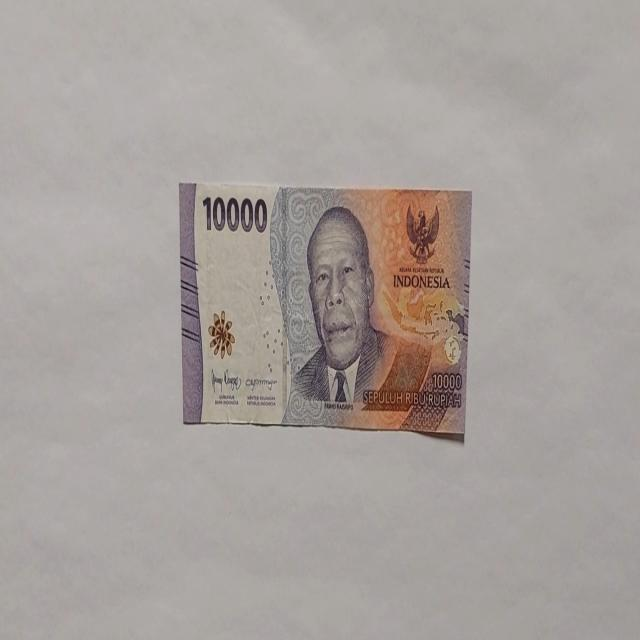sepuluh ribu rupiah: (178, 180, 472, 438), (280, 202, 432, 428)
